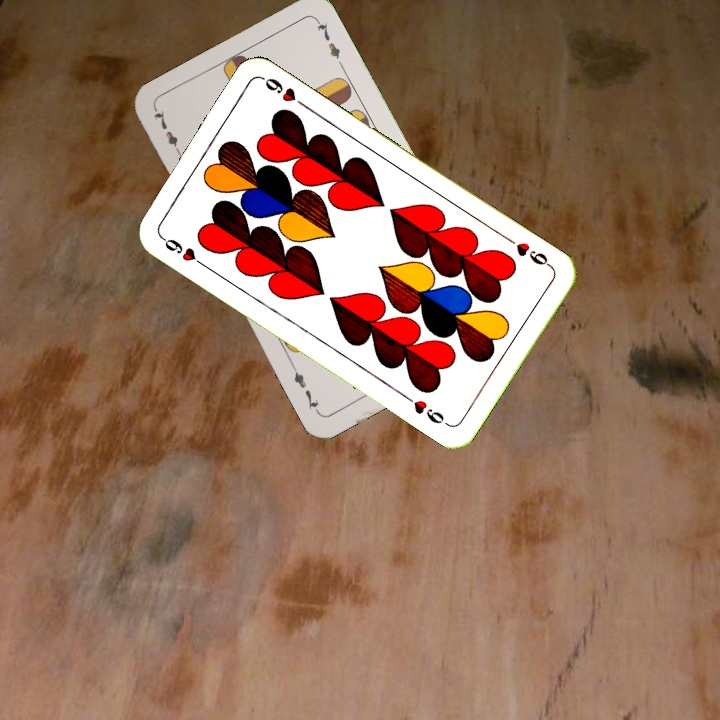E7: (149, 106, 186, 160)
H9: (156, 232, 209, 270), (502, 233, 555, 270)
